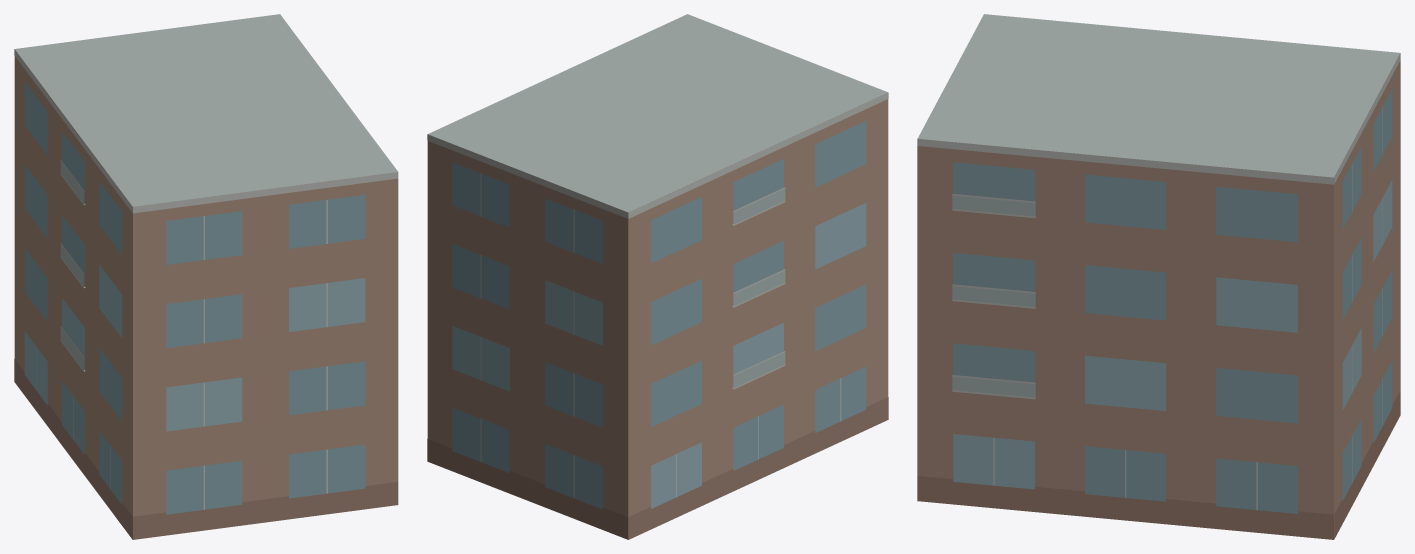
Rendered from survey-upis-32660312.glb.
3 renders of one model, left to right at view 1: azimuth 30°, elevation 25°; view 2: azimuth 150°, elevation 25°; view 3: azimuth 270°, elevation 25°, orthographic. The views are drawn at different scales.
Parts seen in each view (by area): view 1: survey-upis-32660312.tmp; view 2: survey-upis-32660312.tmp; view 3: survey-upis-32660312.tmp.
Part boxes in pixels (left/top/right/bottom): survey-upis-32660312.tmp: left=14, top=14, right=398, bottom=539; survey-upis-32660312.tmp: left=427, top=14, right=888, bottom=539; survey-upis-32660312.tmp: left=917, top=14, right=1400, bottom=539.
Size of the model in its own units: 12.07 by 12.45 by 15.06.
